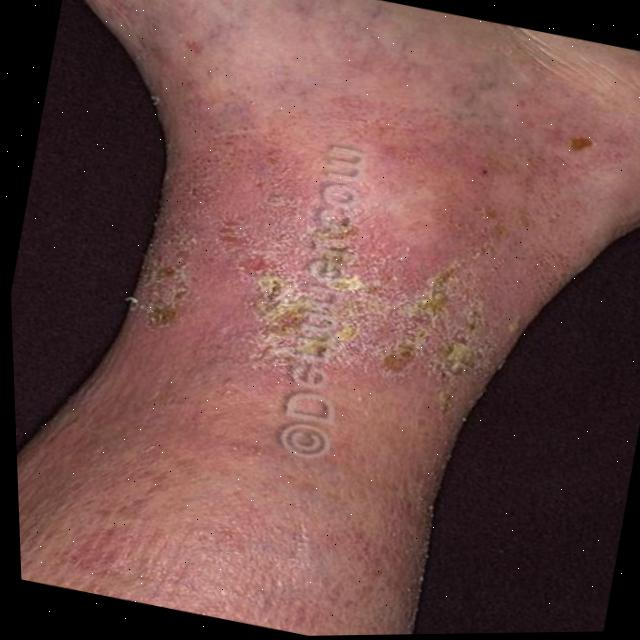Eczema: (131, 190, 503, 448)
